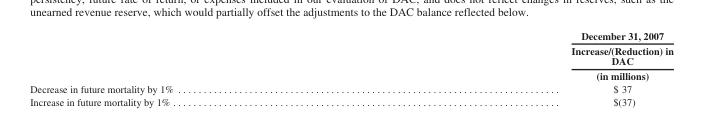table: (29, 29, 672, 107)
table column: (29, 29, 371, 107), (371, 29, 672, 107)
table column header: (29, 29, 672, 82)
table row: (29, 29, 672, 82), (29, 82, 672, 95), (29, 95, 672, 107)
